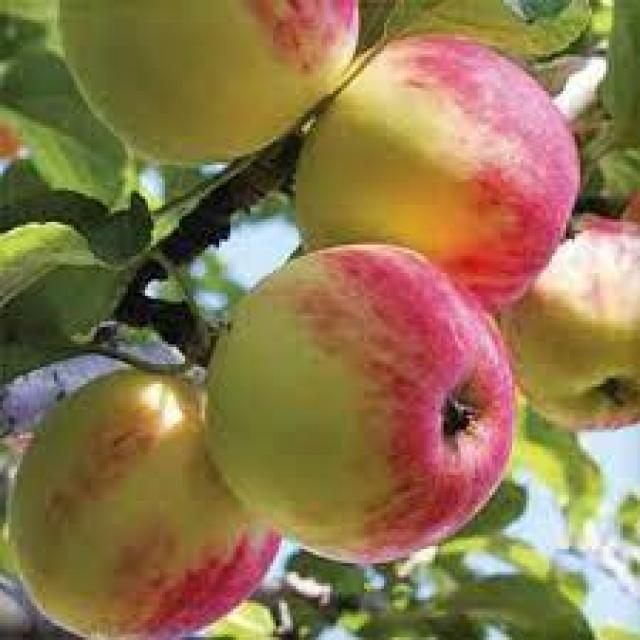Apple: (202, 238, 515, 564), (292, 31, 580, 313), (5, 367, 282, 637), (54, 0, 358, 165), (500, 210, 639, 433)
